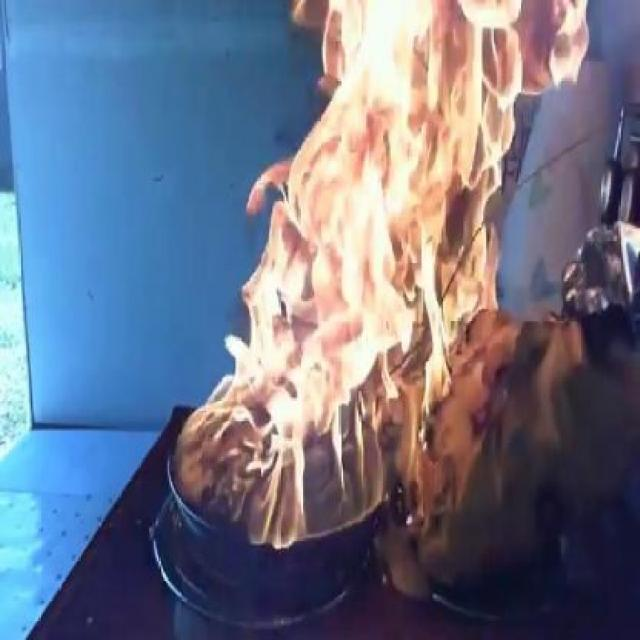fire: (178, 336, 460, 532), (290, 7, 588, 181), (242, 194, 502, 331)
